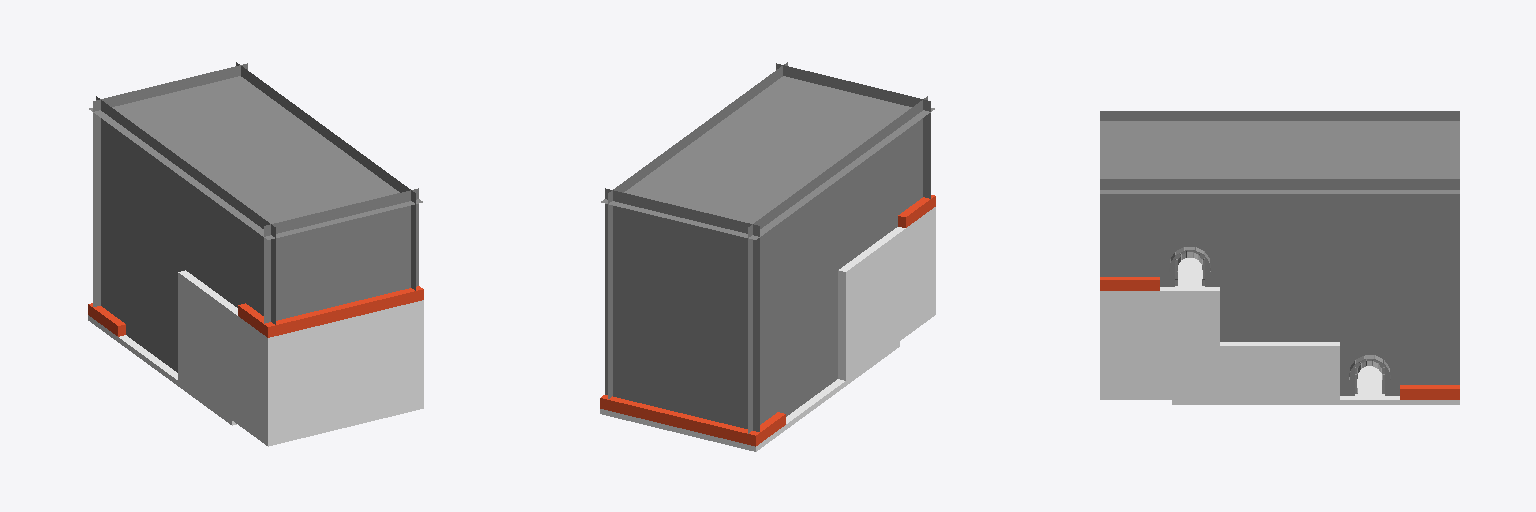
The model's file is slope.obj.
3 renders of one model, left to right at view 1: azimuth 30°, elevation 25°; view 2: azimuth 150°, elevation 25°; view 3: azimuth 270°, elevation 25°, orthographic.
Visible parts, largest first — view 1: struct_wall_main_half_12, block_default_4, struct_ceiling_14, struct_wall_main_half_6, block_default_2, struct_wall_main_half_11, open_block_1, struct_wall_main_half_9, block_default_1, struct_wall_main_half_10, open_block_0; view 2: struct_wall_main_half_11, struct_wall_main_half_12, struct_ceiling_14, block_default_4, block_default_2, open_block_0, struct_wall_main_half_6, block_default_1, struct_wall_main_half_9, open_block_1, struct_wall_main_half_7; view 3: struct_wall_main_half_9, struct_ceiling_14, block_default_4, struct_wall_main_half_10, struct_wall_main_half_7, struct_wall_main_half_12, block_default_0, block_default_3, struct_door_5, struct_door_2, block_default_1, open_block_0 (+1 smaller).
Part boxes in pixels (x1,y1,x2,y2): struct_wall_main_half_12: (96, 96, 275, 372); block_default_4: (208, 292, 423, 446); struct_ceiling_14: (89, 76, 422, 239); struct_wall_main_half_6: (264, 188, 418, 323); block_default_2: (178, 270, 214, 401); struct_wall_main_half_11: (93, 63, 247, 306); open_block_1: (238, 286, 423, 337); struct_wall_main_half_9: (236, 62, 355, 159); block_default_1: (88, 315, 236, 425); struct_wall_main_half_10: (386, 172, 415, 290); open_block_0: (88, 303, 125, 336); struct_wall_main_half_11: (605, 188, 759, 431); struct_wall_main_half_12: (748, 96, 927, 433); struct_ceiling_14: (601, 76, 934, 239); block_default_4: (868, 207, 935, 357); block_default_2: (838, 249, 875, 380); open_block_0: (600, 395, 785, 446); struct_wall_main_half_6: (776, 63, 930, 198); block_default_1: (600, 342, 899, 451); struct_wall_main_half_9: (608, 106, 727, 355); open_block_1: (898, 195, 935, 227); struct_wall_main_half_7: (608, 84, 757, 398); struct_wall_main_half_9: (1220, 179, 1459, 341); struct_ceiling_14: (1100, 121, 1459, 193); block_default_4: (1100, 258, 1219, 399); struct_wall_main_half_10: (1100, 179, 1159, 276); struct_wall_main_half_7: (1160, 179, 1459, 384); struct_wall_main_half_12: (1100, 111, 1459, 120); block_default_0: (1220, 342, 1279, 399); block_default_3: (1280, 342, 1339, 399); struct_door_5: (1160, 233, 1219, 286); struct_door_2: (1340, 342, 1399, 395); block_default_1: (1172, 366, 1459, 404); open_block_0: (1400, 385, 1459, 399).
Bounding box in the file's own units: 3 × 4.1 × 6.